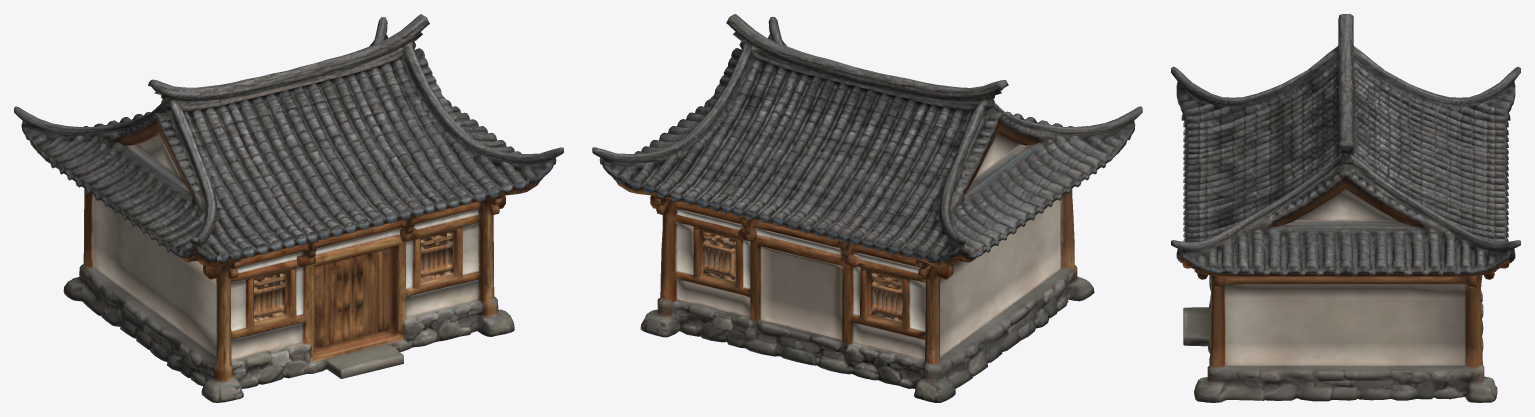
The model's file is traditional chinese house 3d model.glb.
The picture shows the model from 3 angles, left to right: view 1: azimuth 30°, elevation 25°; view 2: azimuth 150°, elevation 25°; view 3: azimuth 270°, elevation 25°; orthographic projection. The views are drawn at different scales.
Parts seen in each view (by area): view 1: tripo_node_167c0fb2-bb85-440a-85b4-90324b200d97; view 2: tripo_node_167c0fb2-bb85-440a-85b4-90324b200d97; view 3: tripo_node_167c0fb2-bb85-440a-85b4-90324b200d97.
Boxes of the visible parts, x1=… form: tripo_node_167c0fb2-bb85-440a-85b4-90324b200d97: x1=14, y1=14, x2=563, y2=402; tripo_node_167c0fb2-bb85-440a-85b4-90324b200d97: x1=592, y1=14, x2=1142, y2=402; tripo_node_167c0fb2-bb85-440a-85b4-90324b200d97: x1=1171, y1=14, x2=1520, y2=402.
Bounding box in the file's own units: 0.9781 × 0.6604 × 0.8212.
1 material, 1 textured.
